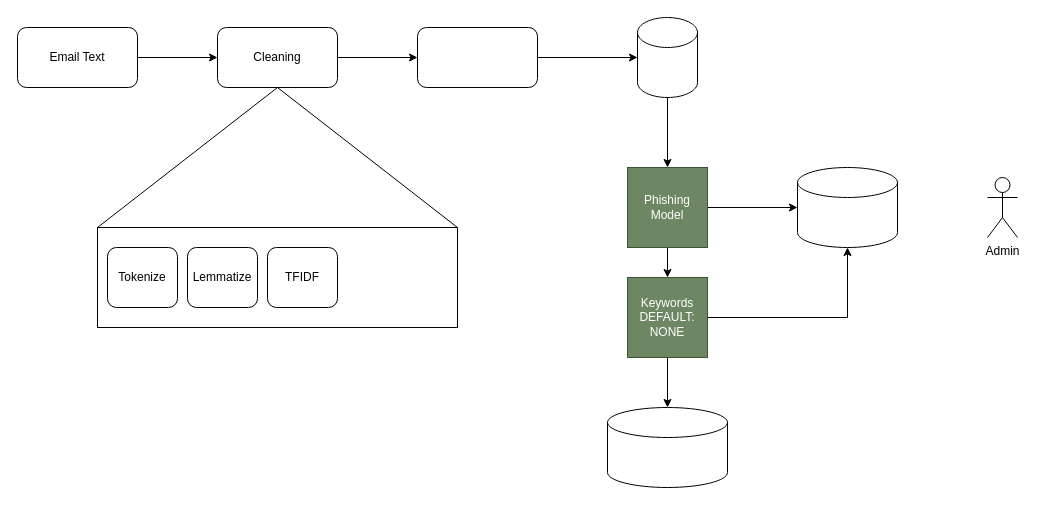
This 1037x505 diagram has some shape labels left out. Each missing label, with the centre of its shape:
"Dimensionality Reduction" belongs at point (477, 57).
"Inbox" belongs at point (667, 447).
"Processed Email" belongs at point (667, 57).
"Quarantine" belongs at point (847, 207).
